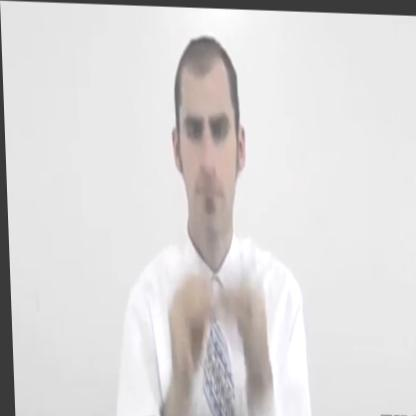Fix: (151, 248, 273, 393)
